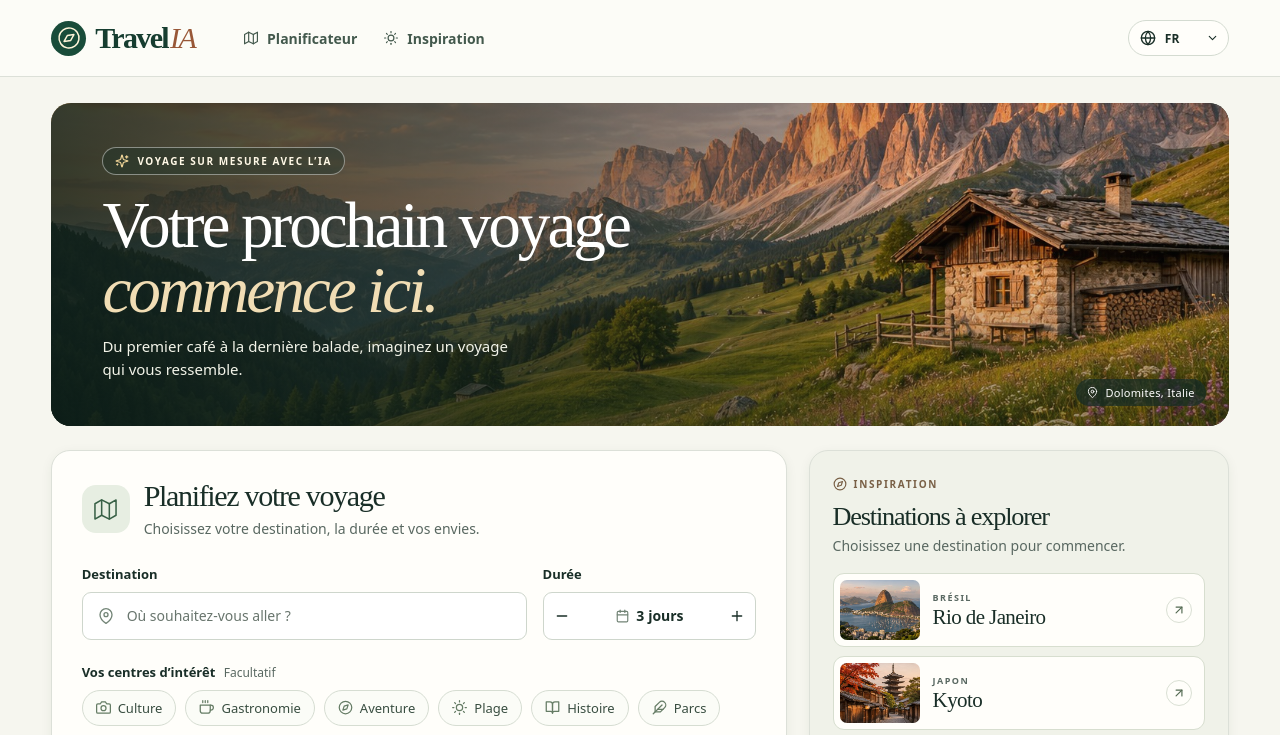
Test: French and English routes share the form and keep the destination on language change
Expected: the heading "Planifiez votre voyage" is shown, [144,479,384,513]
Type "Lyon" into the field labelled "Destination".
click(320, 616); type("Lyon")  # box [115,594,526,638]
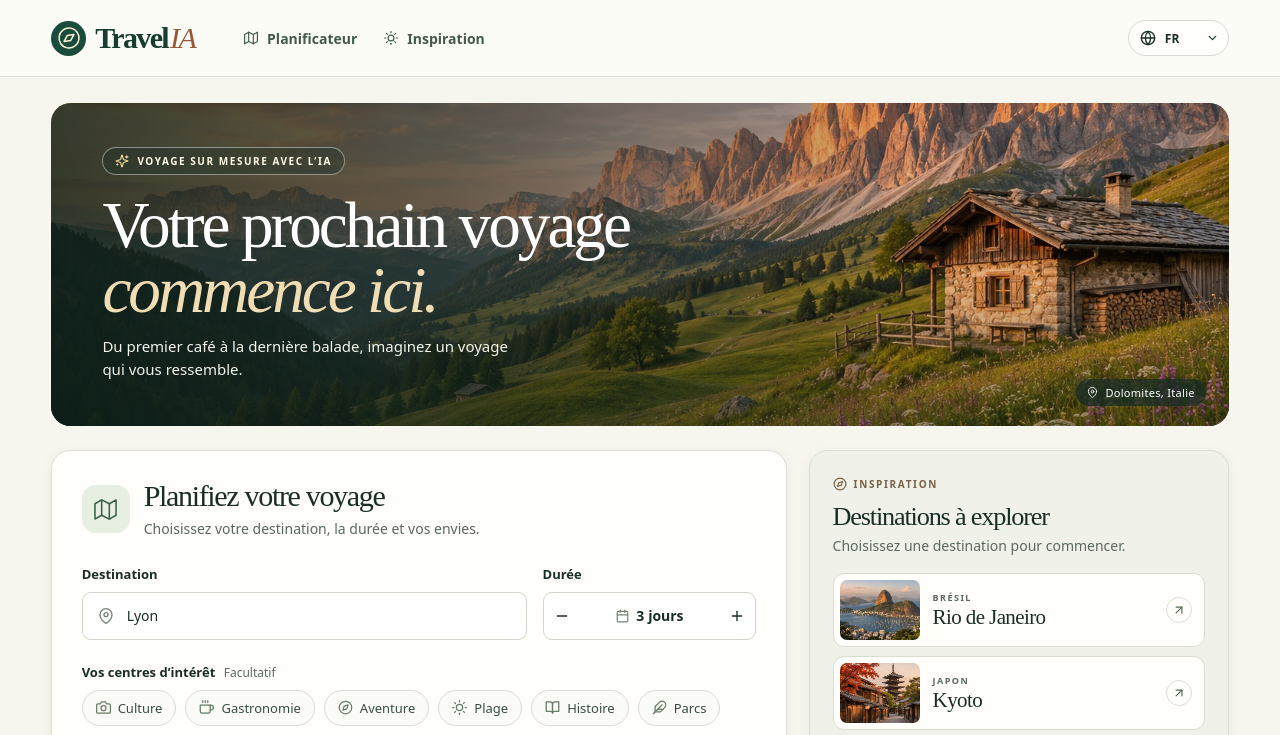
Select "EN" in the dropdown at (1178, 38), box [1128,20,1229,56]
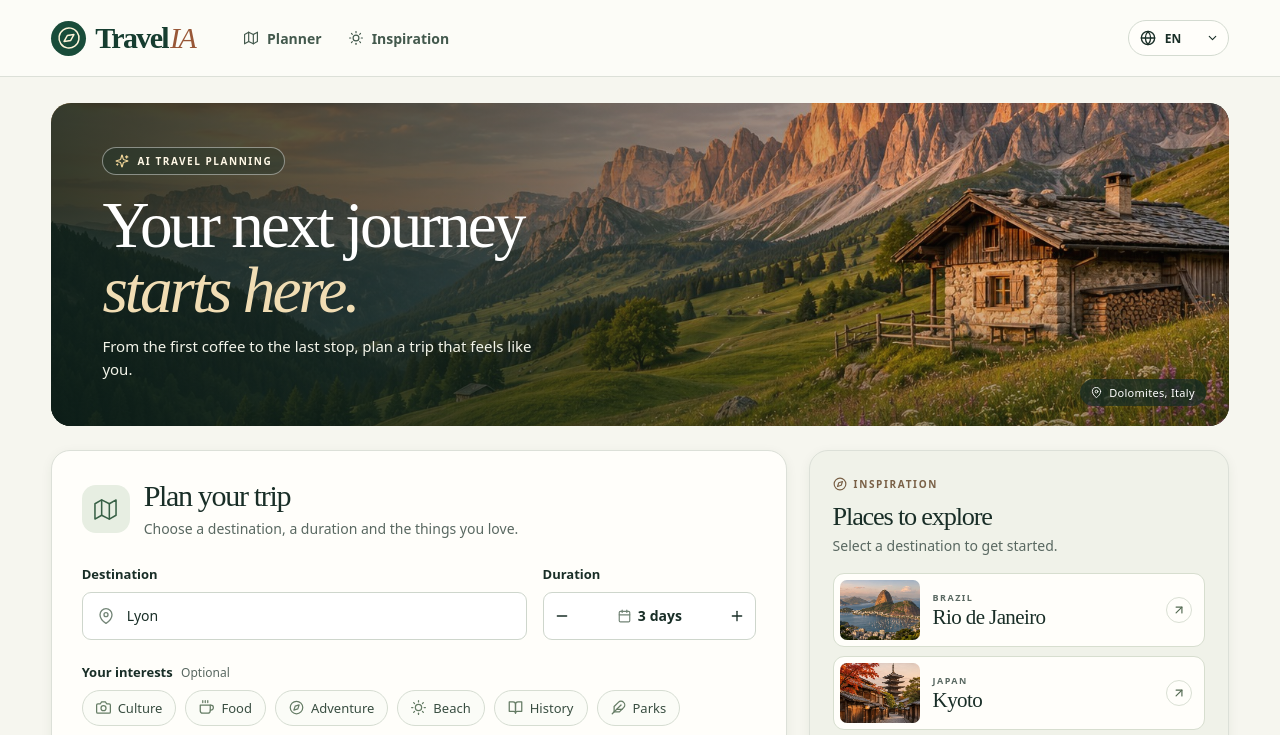
Expected: the heading "Plan your trip" is shown, [144,479,290,513]
